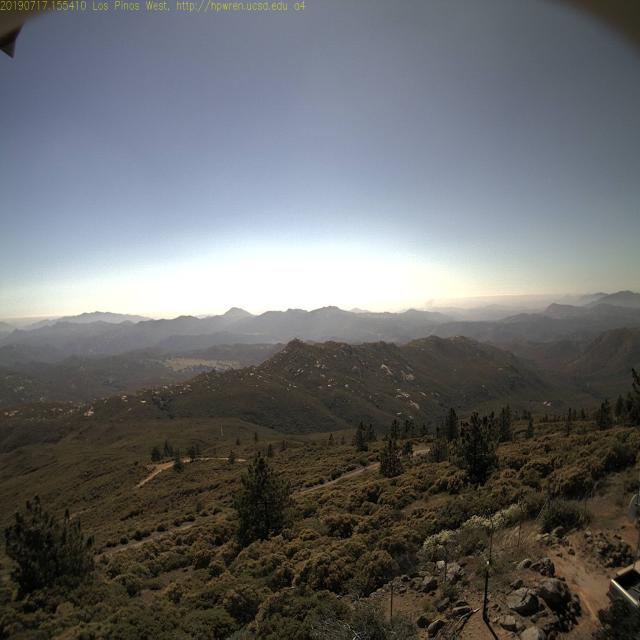smoke: (422, 289, 441, 319)
